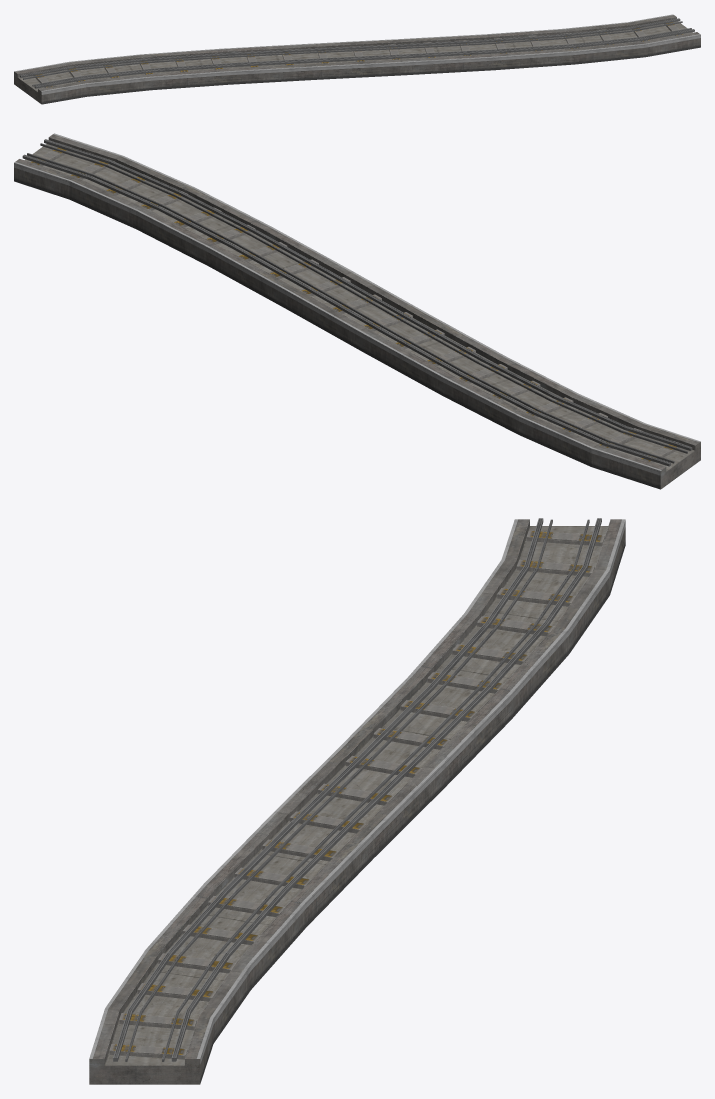
Rendered from CP_Metro_Track_Offset_01.fbx.
The picture shows the model from 3 angles, top to bottom: view 1: azimuth 30°, elevation 25°; view 2: azimuth 150°, elevation 25°; view 3: azimuth 270°, elevation 25°; orthographic projection. The views are drawn at different scales.
Visible parts, largest first — view 1: CP_Metro_Track_Offset_01_LOD0; view 2: CP_Metro_Track_Offset_01_LOD0; view 3: CP_Metro_Track_Offset_01_LOD0.
Part boxes in pixels (left/top/right/bottom): CP_Metro_Track_Offset_01_LOD0: left=14, top=14, right=700, bottom=104; CP_Metro_Track_Offset_01_LOD0: left=14, top=133, right=700, bottom=489; CP_Metro_Track_Offset_01_LOD0: left=89, top=518, right=625, bottom=1084.
Size of what is drawn, in the model's own units: 4500 by 103 by 1891.
